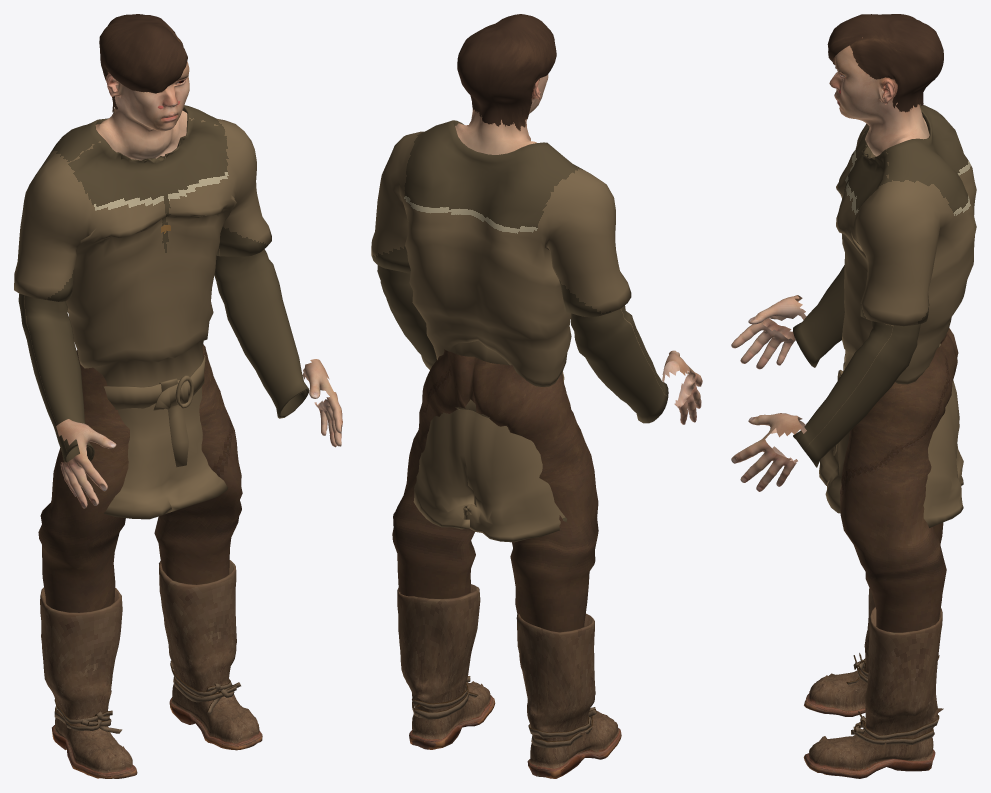
The model's file is mike-travel-coat.glb.
The picture shows the model from 3 angles, left to right: view 1: azimuth 30°, elevation 25°; view 2: azimuth 150°, elevation 25°; view 3: azimuth 270°, elevation 25°; orthographic projection.
Visible parts, largest first — view 1: mike-travel-coat runtime mesh; view 2: mike-travel-coat runtime mesh; view 3: mike-travel-coat runtime mesh.
Part boxes in pixels (x1,y1,x2,y2): mike-travel-coat runtime mesh: [14, 14, 342, 778]; mike-travel-coat runtime mesh: [371, 14, 702, 778]; mike-travel-coat runtime mesh: [731, 14, 976, 778].
Bounding box in the file's own units: 0.7234 × 1.85 × 0.5719.
7 materials, 7 textured.
